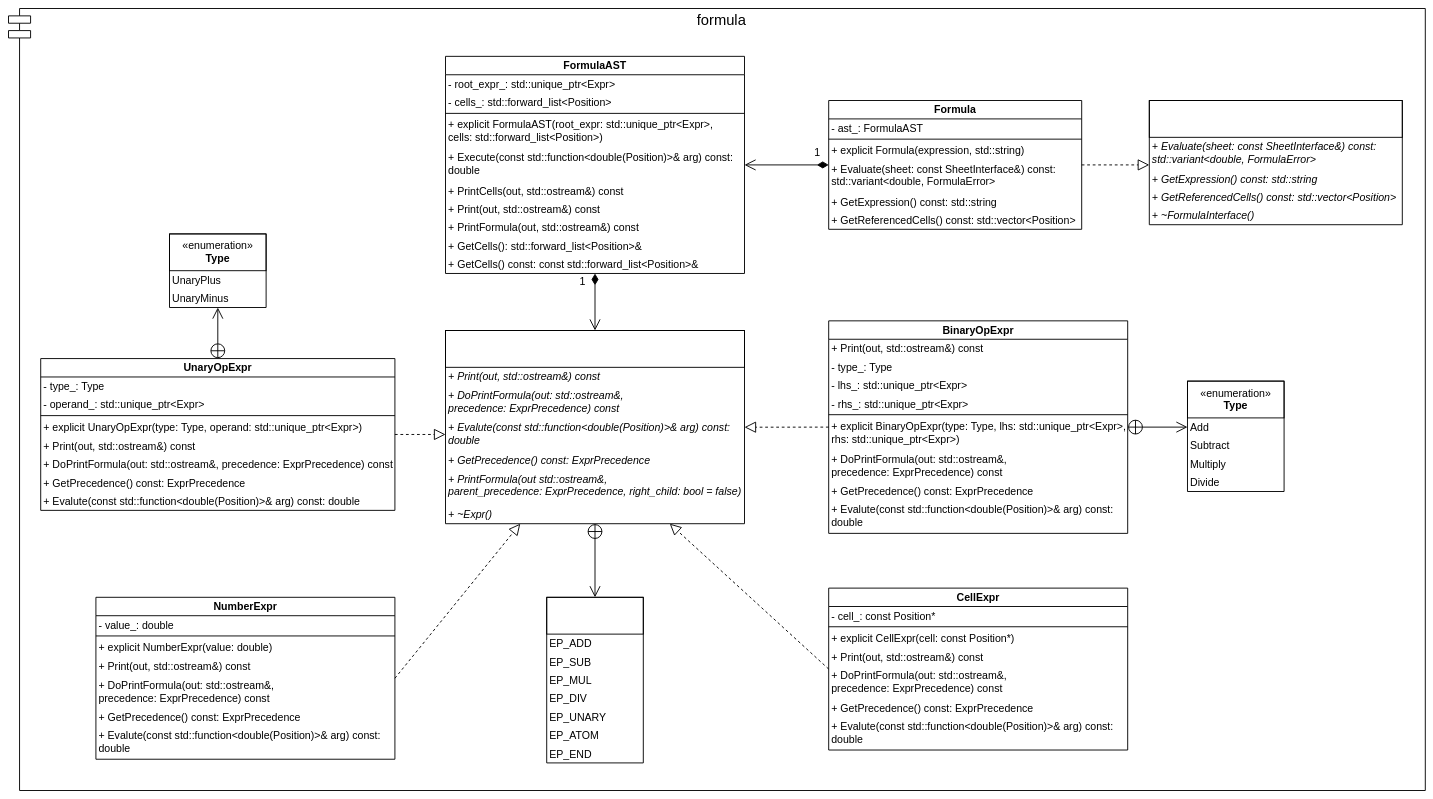
Some shapes in this 1433 by 799 pixel diagram are drawn without their labels. The centre of each missing label's shape, as x and y in pixels:
"«enumeration» ExprPrecedence" belongs at (x=595, y=615).
"«interface» Expr" belongs at (x=595, y=349).
"«interface» FormulaInterface" belongs at (x=1276, y=119).
